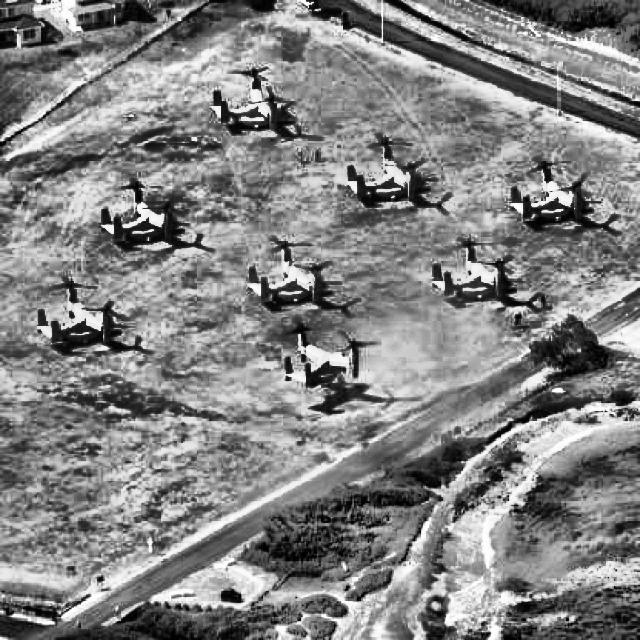V22: (280, 316, 382, 389), (36, 276, 130, 346), (248, 233, 334, 304), (100, 177, 189, 243), (212, 66, 298, 132), (346, 133, 428, 202), (510, 156, 592, 222), (432, 237, 514, 300)
